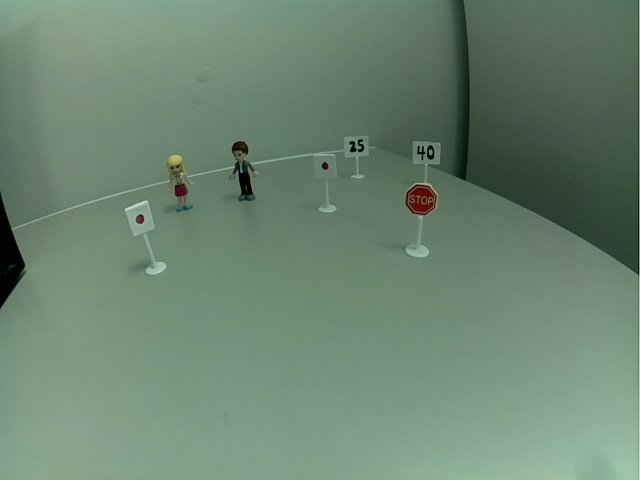people: (227, 140, 262, 203), (165, 153, 197, 213)
red light: (124, 199, 156, 237), (312, 152, 338, 181)
speed 25: (343, 134, 370, 158)
speed 40: (411, 140, 442, 167)
stop: (403, 182, 439, 218)
